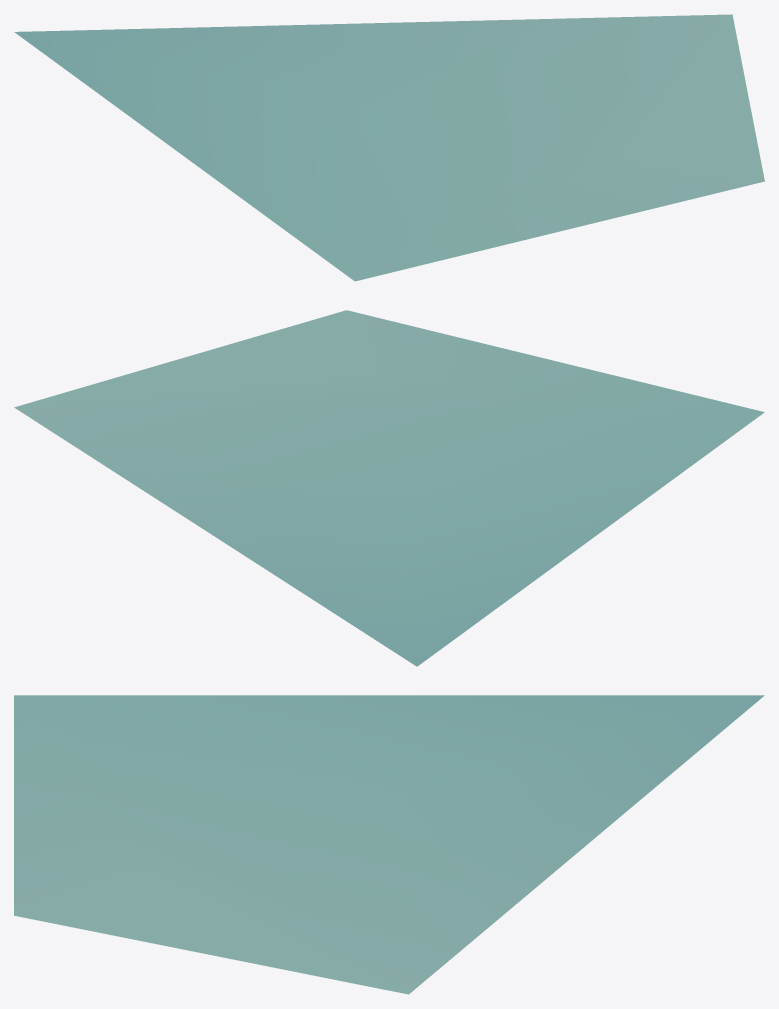
Rendered from water-15-17.glb.
3 renders of one model, top to bottom at view 1: azimuth 30°, elevation 25°; view 2: azimuth 150°, elevation 25°; view 3: azimuth 270°, elevation 25°, orthographic. The views are drawn at different scales.
Bounding box in the file's own units: 3.3 × 0 × 3.5.
